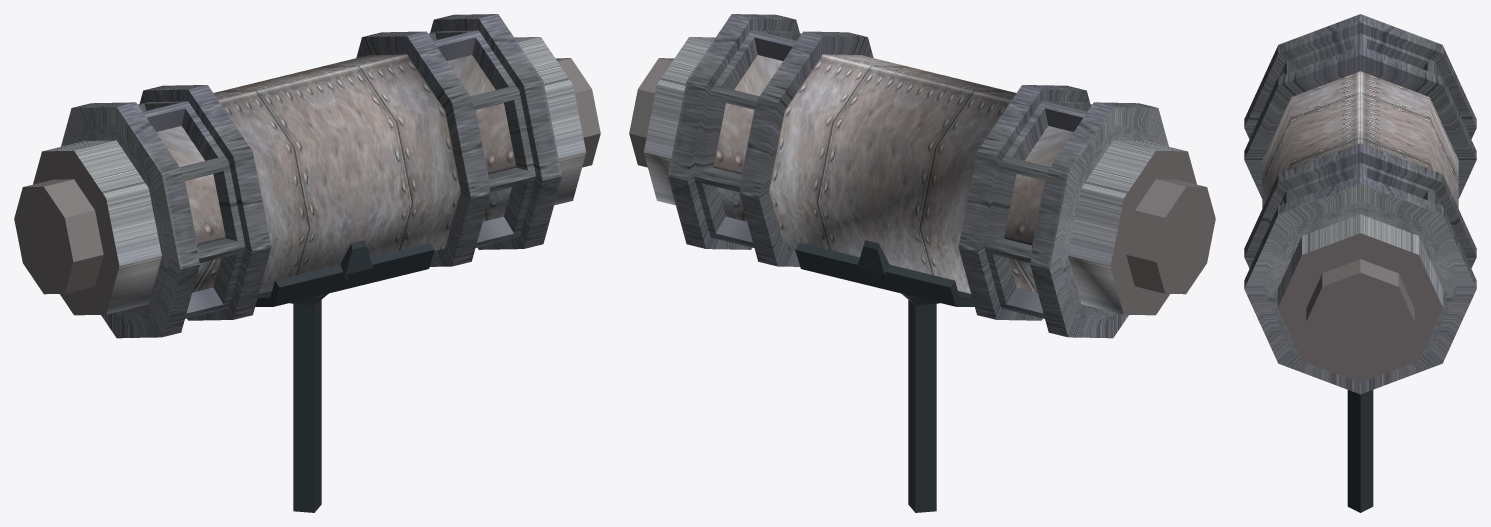
The model's file is pipe_O.glb.
3 renders of one model, left to right at view 1: azimuth 30°, elevation 25°; view 2: azimuth 150°, elevation 25°; view 3: azimuth 270°, elevation 25°, orthographic. The views are drawn at different scales.
Parts seen in each view (by area): view 1: zhuti.O; view 2: zhuti.O; view 3: zhuti.O.
Part boxes in pixels (<box>): zhuti.O: <box>14,14,600,512</box>; zhuti.O: <box>629,14,1215,512</box>; zhuti.O: <box>1244,14,1476,512</box>.
Bounding box in the file's own units: 10.04 × 8.14 × 4.21.
Materials: 3 (2 with a texture image).
